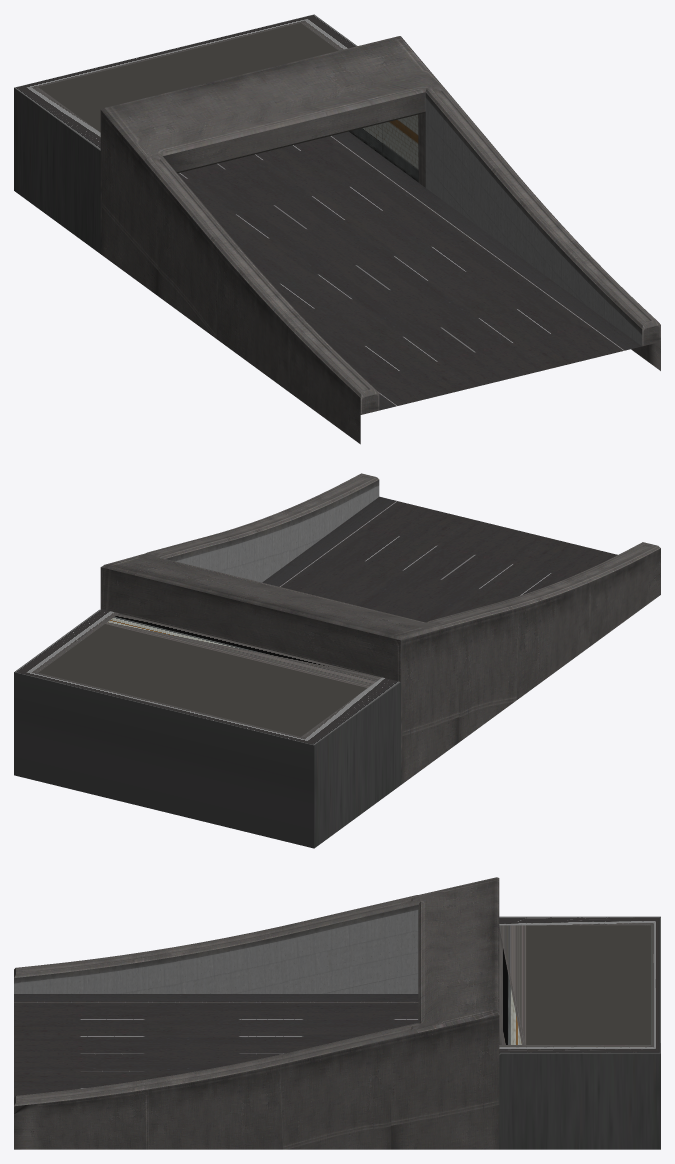
File: tunneltest.FBX
The picture shows the model from 3 angles, top to bottom: view 1: azimuth 30°, elevation 25°; view 2: azimuth 150°, elevation 25°; view 3: azimuth 270°, elevation 25°; orthographic projection. The views are drawn at different scales.
Visible parts, largest first — view 1: Slope_Tunnel_Segment_Cover; view 2: Slope_Tunnel_Segment_Cover; view 3: Slope_Tunnel_Segment_Cover.
Part boxes in pixels (x1=…): Slope_Tunnel_Segment_Cover: x1=14, y1=14, x2=660, y2=444; Slope_Tunnel_Segment_Cover: x1=14, y1=473, x2=660, y2=848; Slope_Tunnel_Segment_Cover: x1=14, y1=877, x2=660, y2=1149.
Size of the model in its own units: 32 by 14.94 by 64.
